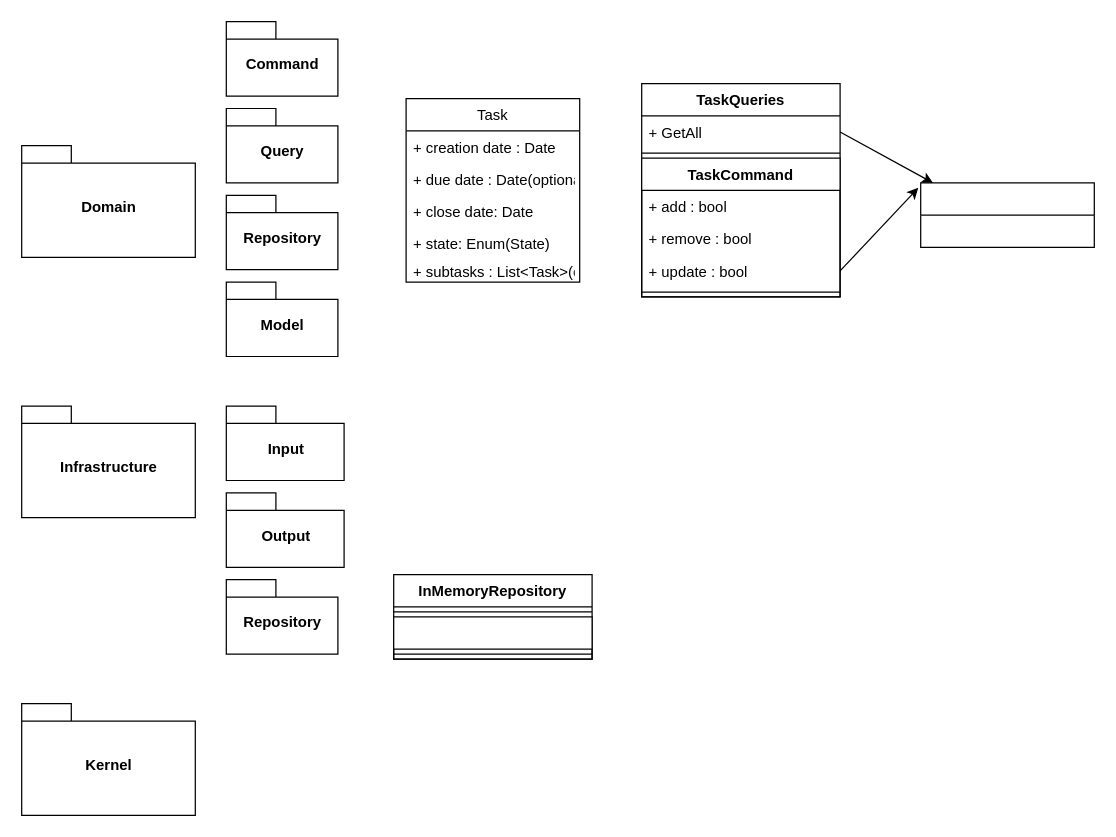
The diagram is 1116 pixels wide and 837 high, and some of its shapes have lost their labels. Each missing label, with the centre of its shape:
JsonRepository: point (492, 637)
TasksRepository:: point (1006, 214)
